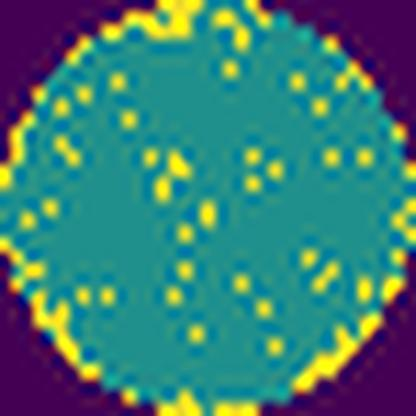Edge-Loc: (286, 308, 386, 393), (31, 290, 103, 379), (102, 0, 209, 45), (158, 382, 263, 414)
